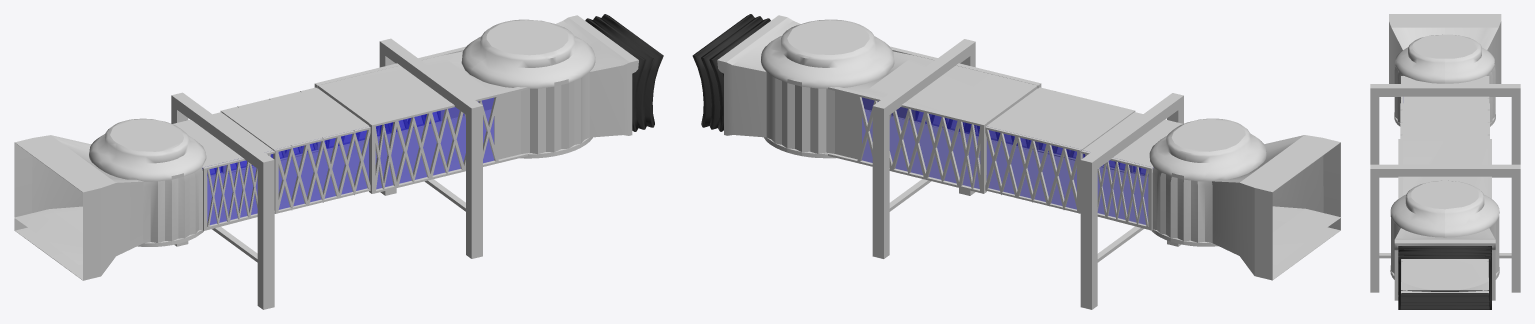
File: passerelle-ZFVh_d2V.glb
3 renders of one model, left to right at view 1: azimuth 30°, elevation 25°; view 2: azimuth 150°, elevation 25°; view 3: azimuth 270°, elevation 25°, orthographic. The views are drawn at different scales.
Parts seen in each view (by area): view 1: Cube002, Cube002_1, Cube002_2; view 2: Cube002, Cube002_1, Cube002_2; view 3: Cube002, Cube002_2.
Part boxes in pixels (x1,y1,x2,y2): Cube002: (14,15,638,309); Cube002_1: (202,97,493,224); Cube002_2: (585,14,663,131); Cube002: (717,15,1340,309); Cube002_1: (862,97,1148,224); Cube002_2: (692,14,770,131); Cube002: (1370,14,1520,300); Cube002_2: (1398,246,1491,309).
Bounding box in the file's own units: 19.7 × 5.21 × 5.31.
